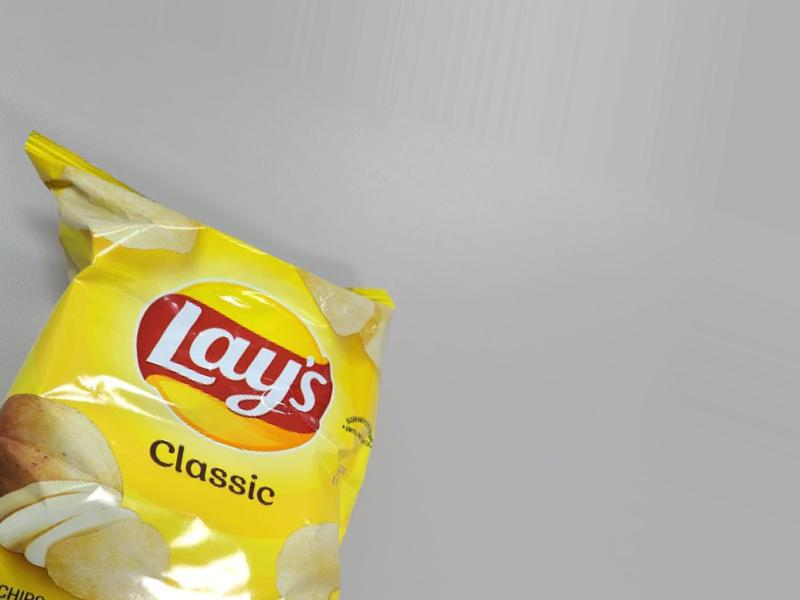lays: (48, 75, 348, 600)
